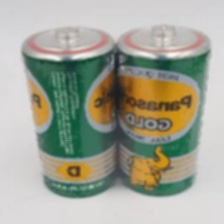battery: (109, 19, 212, 199), (18, 22, 122, 199)
